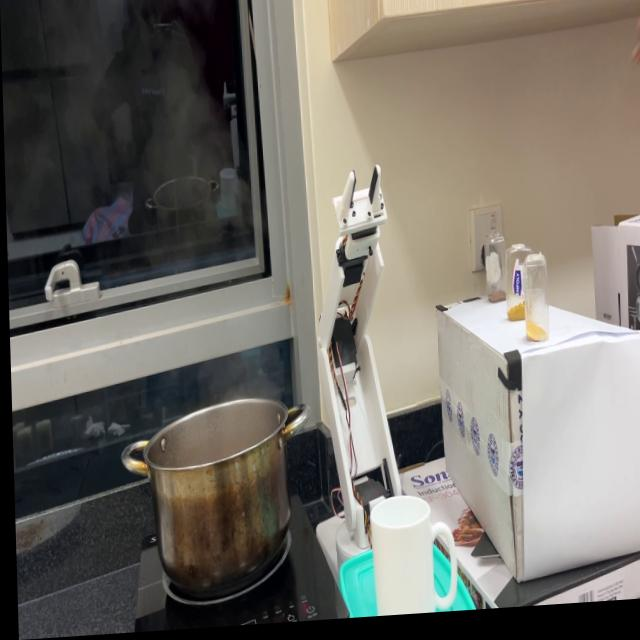cooking_pot: (116, 396, 313, 598)
curry_powder: (505, 305, 526, 331)
garlic_powder: (522, 324, 543, 353)
maggie_open: (484, 292, 503, 311)
